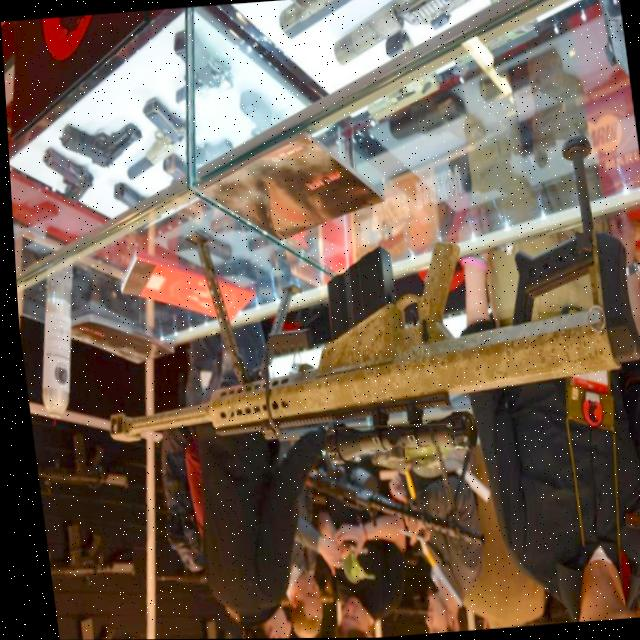firearm: (70, 129, 640, 481), (298, 453, 483, 564), (325, 0, 525, 67)
pistol: (354, 25, 443, 123), (473, 45, 585, 113), (382, 87, 487, 154), (443, 0, 542, 70), (116, 94, 189, 180), (166, 25, 235, 108), (55, 117, 143, 171), (275, 0, 360, 40), (38, 144, 93, 205)
